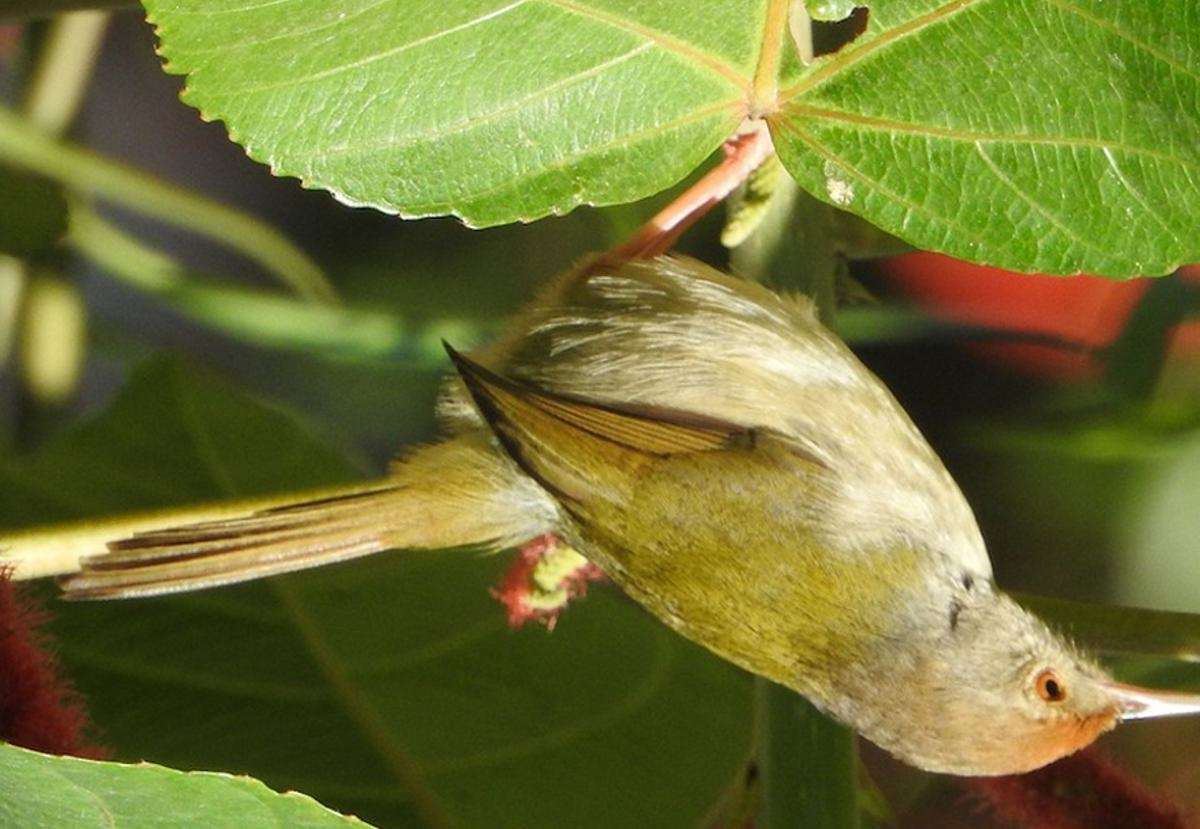tailorbird: (57, 264, 1166, 788)
